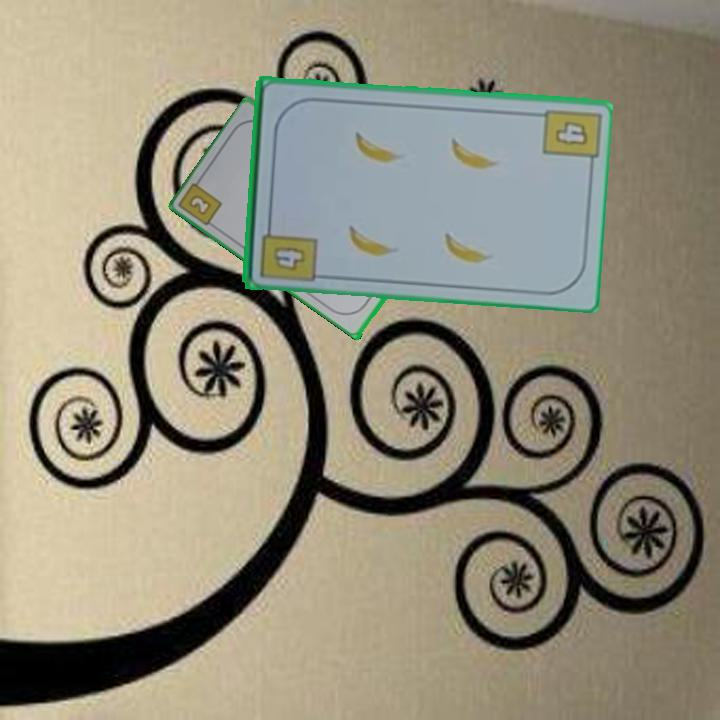2b: (188, 194, 215, 218)
4b: (257, 216, 319, 281), (552, 117, 592, 148)
